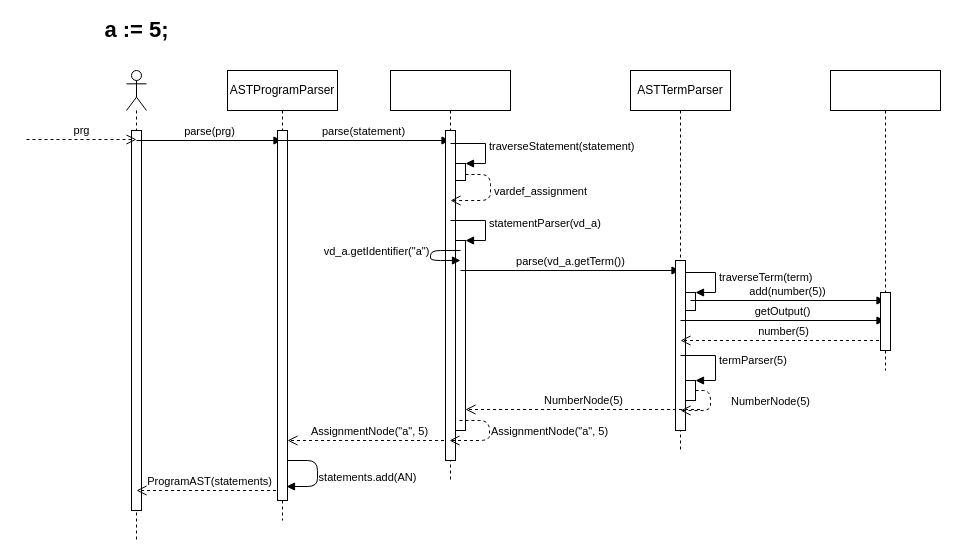
Image size: 958x558. Some labels were removed from this diagram. Each missing label, with the box of its shape:
ASTStatementParser: (390, 70, 510, 480)
ShuntingYardBuilder: (830, 70, 940, 370)
